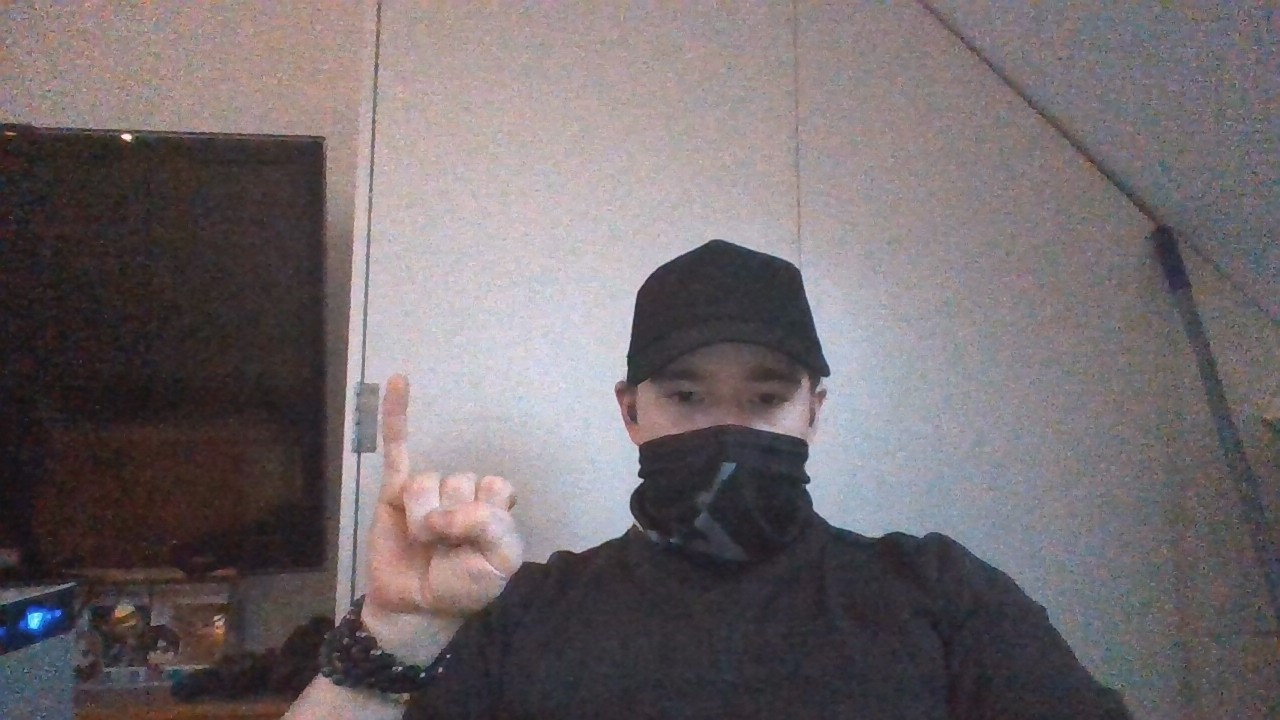I" Sign language: (362, 371, 535, 631)
